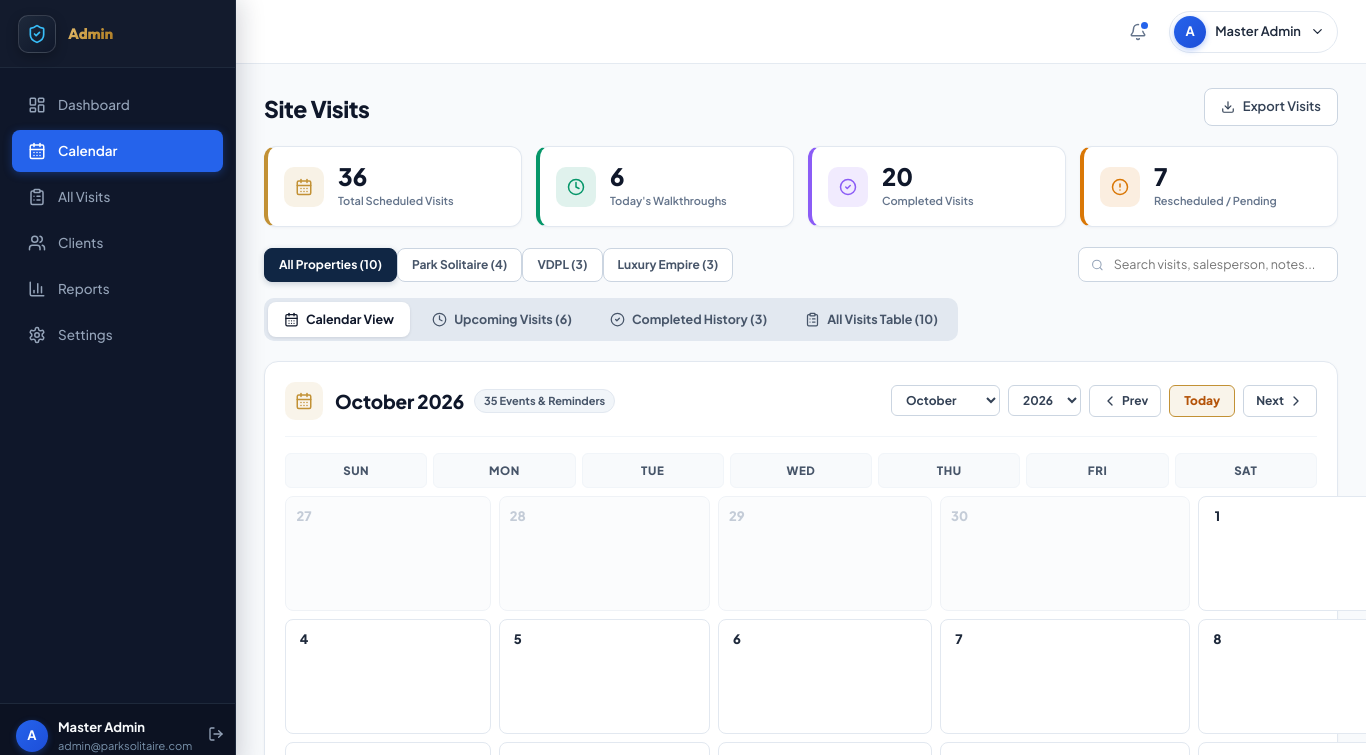
Park Solitaire Client Visit App › Site Visit Management (/site-visits) › displays completed visit history with feedback and follow-up alert
Note: Switch to Completed History tab
Click the button "Completed History (3)": (689, 320) [594, 302, 783, 337]
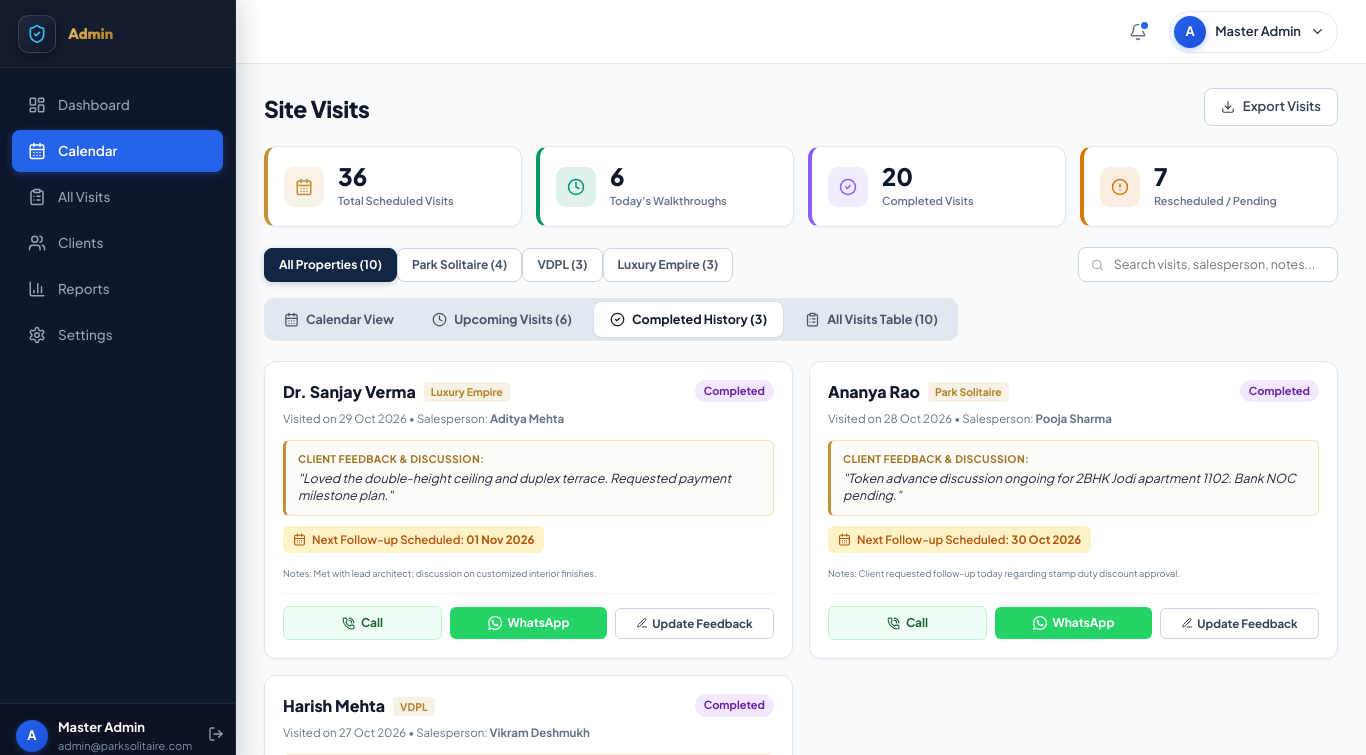
Now the heading "Dr. Sanjay Verma" is shown, box [283, 380, 416, 404]
Now the text "Client Feedback & Discussion:" below "29 Oct 2026" is shown, box [298, 452, 484, 465]
Now the text "Loved the double-height ceiling and duplex terrace" is shown, box [298, 470, 731, 503]
